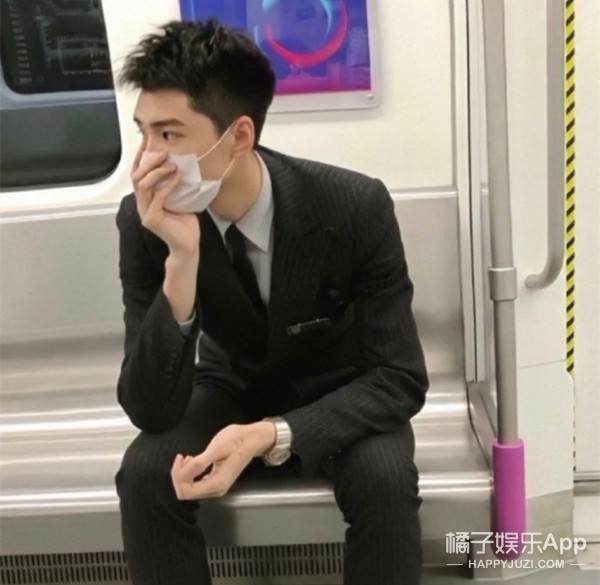person: (122, 26, 305, 279)
